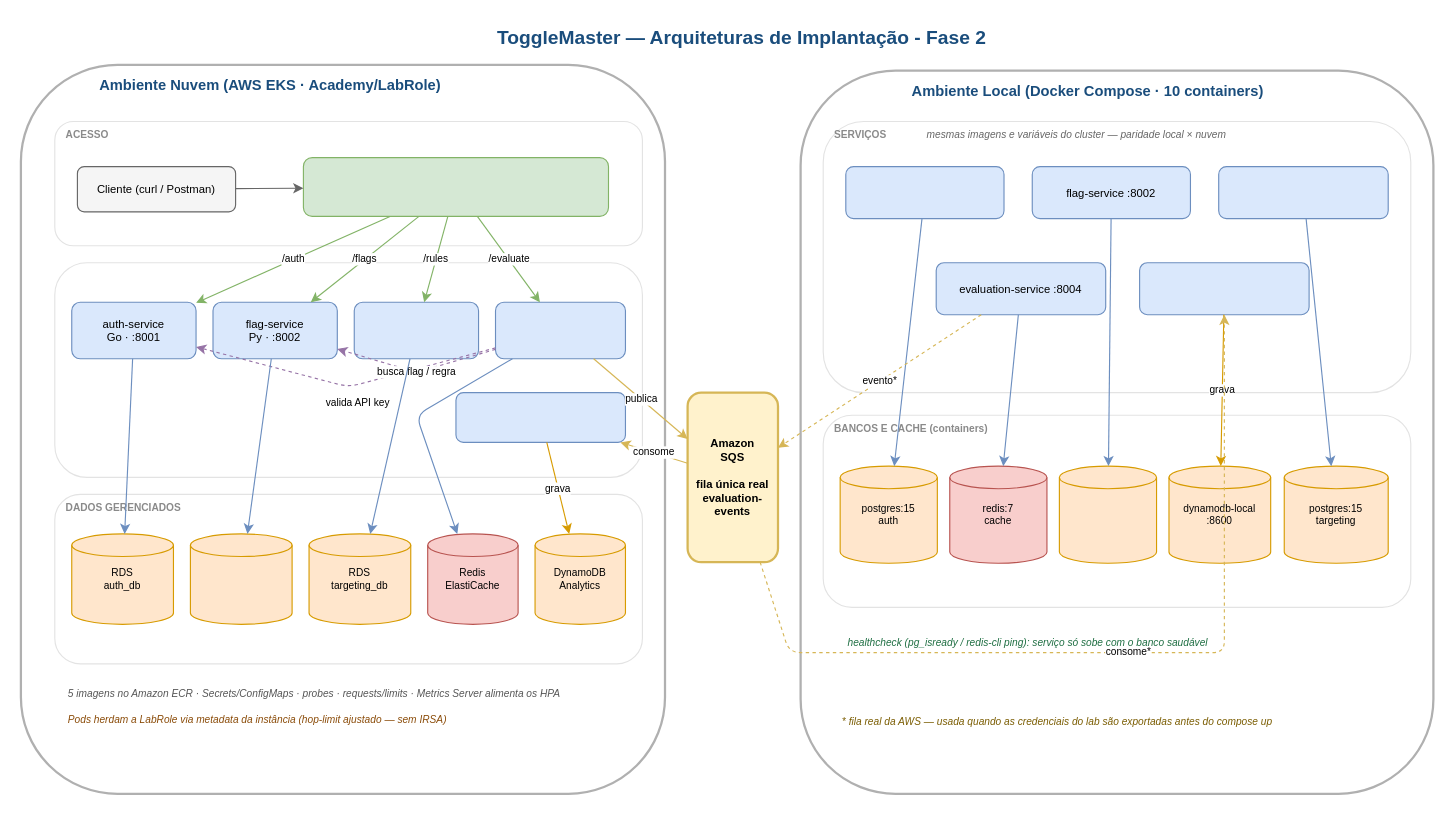
Some shapes in this 1453 by 814 pixel diagram are drawn without their labels. The box of each missing label's shape, as (x1, y1, x2, y2) in pixels:
analytics-service :8005: (1138, 262, 1309, 315)
analytics-service Py · :8005 · HPA 1–4: (455, 392, 625, 442)
auth-service :8001: (845, 166, 1004, 219)
evaluation-svc Go · :8004 · HPA 2–6: (494, 301, 625, 359)
MICROSSERVIÇOS · namespace techchallenger: (54, 262, 642, 477)
Nginx Ingress Controller Load Balancer AWS: (302, 157, 609, 216)
postgres:15 flags: (1058, 465, 1157, 563)
RDS flags_db: (189, 533, 292, 624)
targeting-service :8003: (1218, 166, 1388, 219)
targeting-svc Py · :8003: (353, 301, 479, 359)
